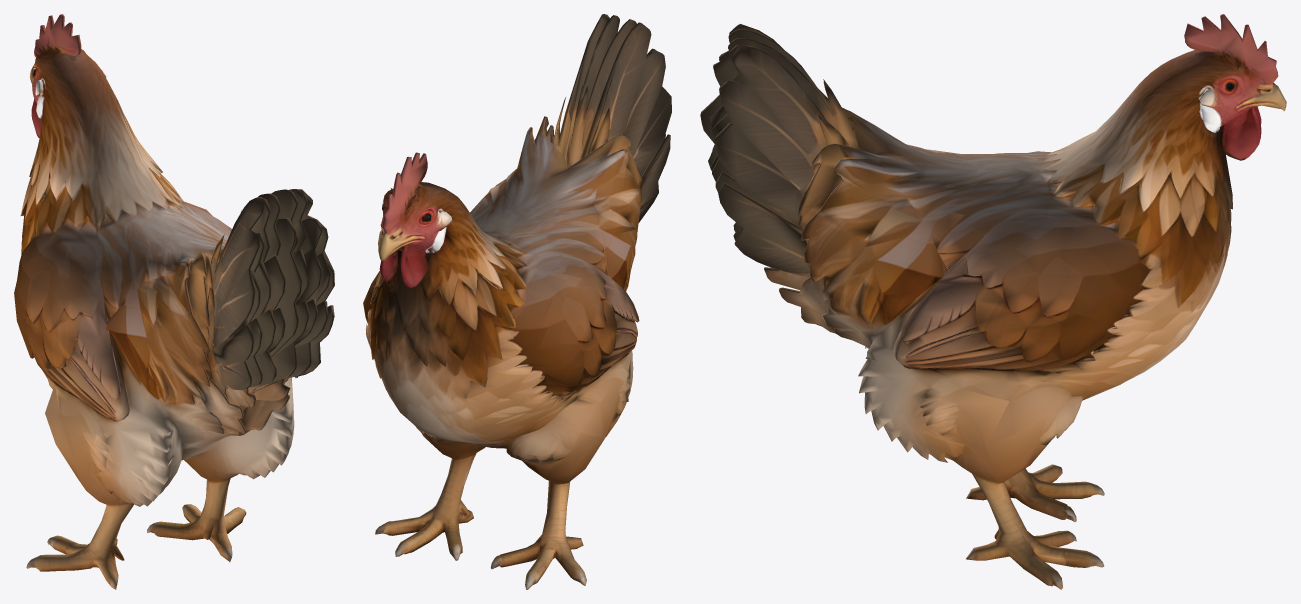
Rendered from animal_chicken_brown_r_hi.glb.
3 views of the same model, side by side, from view 1: azimuth 30°, elevation 25°; view 2: azimuth 150°, elevation 25°; view 3: azimuth 270°, elevation 25° (orthographic). The views are drawn at different scales.
Parts seen in each view (by area): view 1: node_0; view 2: node_0; view 3: node_0.
Boxes of the visible parts, x1=… form: node_0: x1=14, y1=14, x2=334, y2=589; node_0: x1=363, y1=14, x2=671, y2=589; node_0: x1=700, y1=14, x2=1286, y2=589.
Size of the model in its own units: 0.2421 by 0.5 by 0.5115.
Materials: 1 (1 with a texture image).
